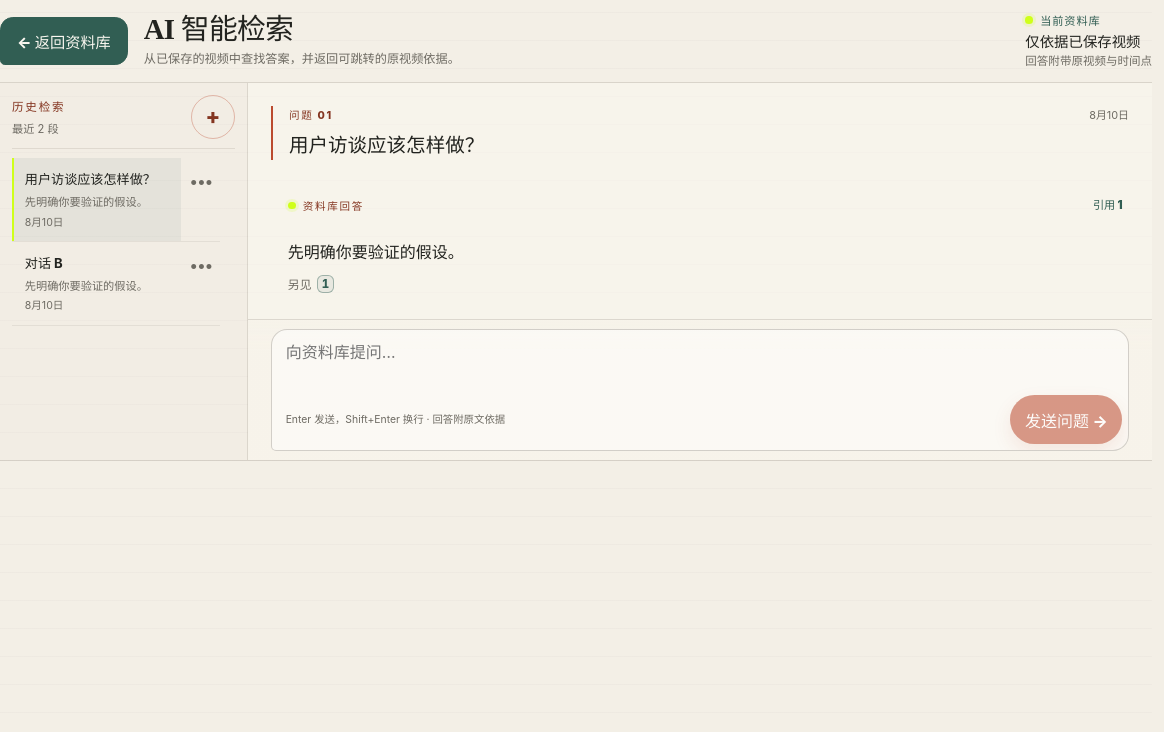
Test case: AI search chat page › preserves selected B when pending send A ends in failure
Step 1. Type "A 的新问题" into the text box labelled "向资料库提问" → (700, 359), box [272,330,1128,388]
Then press Enter
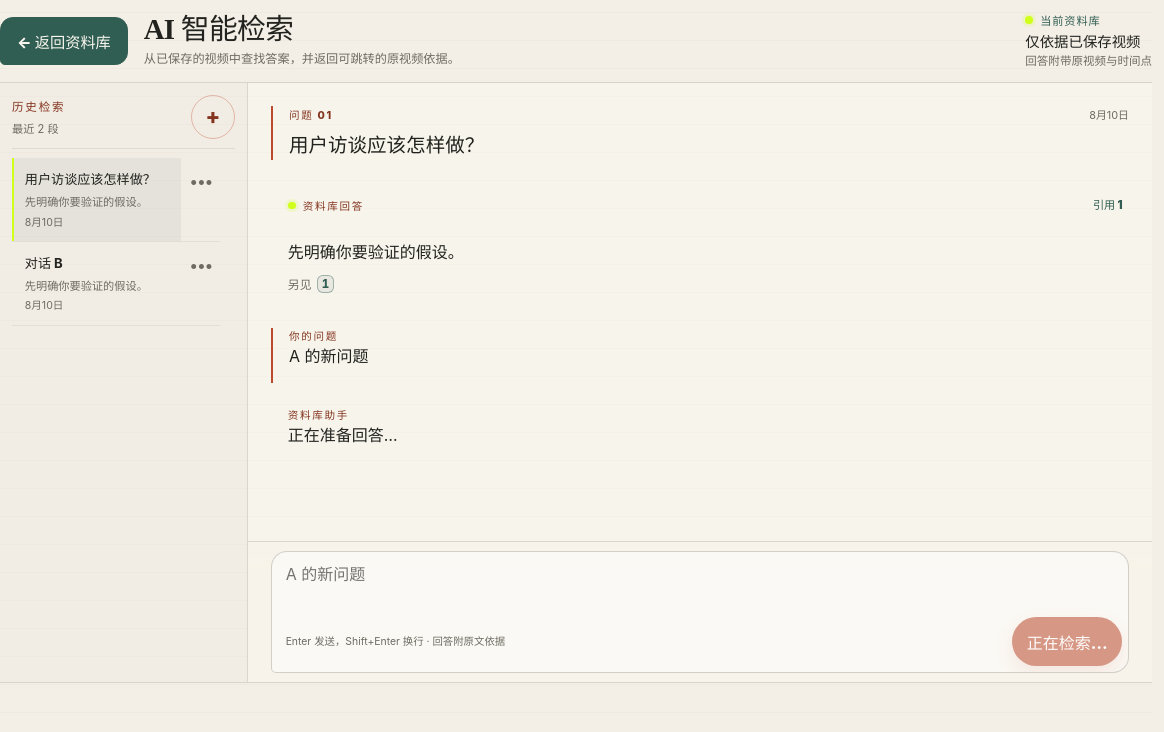
Step 2. Click the button "对话 B 先明确你要验证的假设。 8月10日" → (97, 283), box [12,242,181,325]
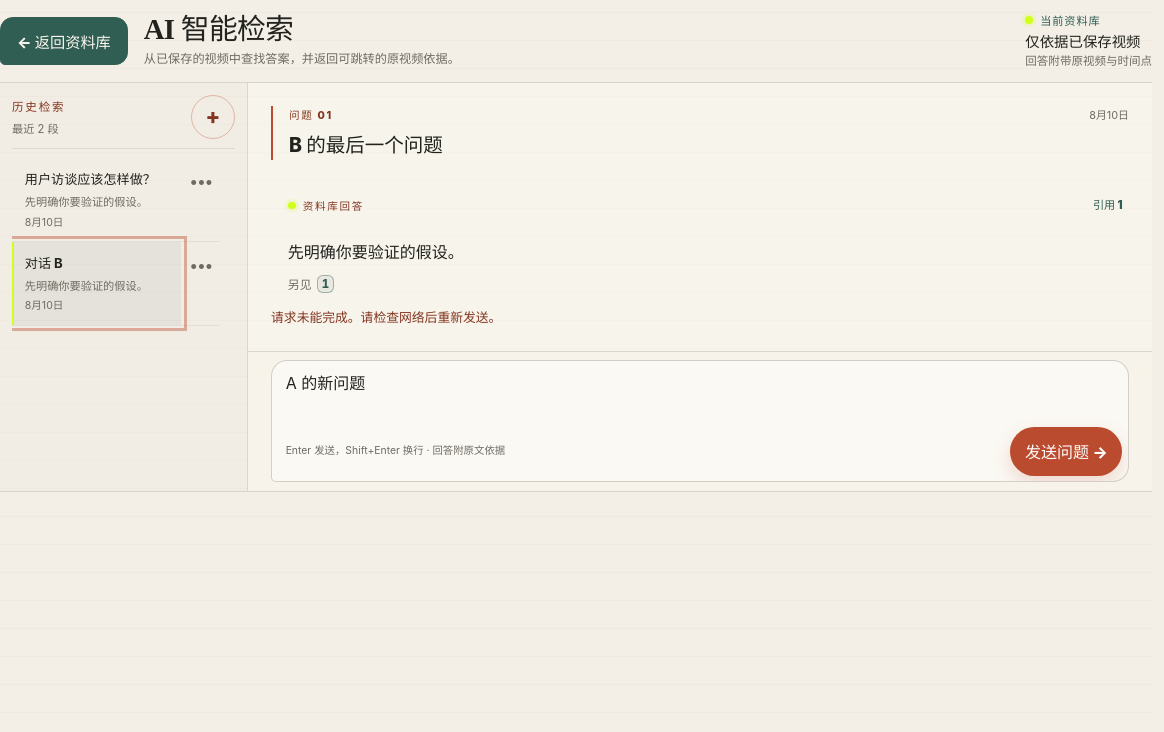
Expected: the text "B 的最后一个问题" is shown, [289,133,443,157]
Expected: the text box named "向资料库提问" is enabled, [272,361,1128,419]
